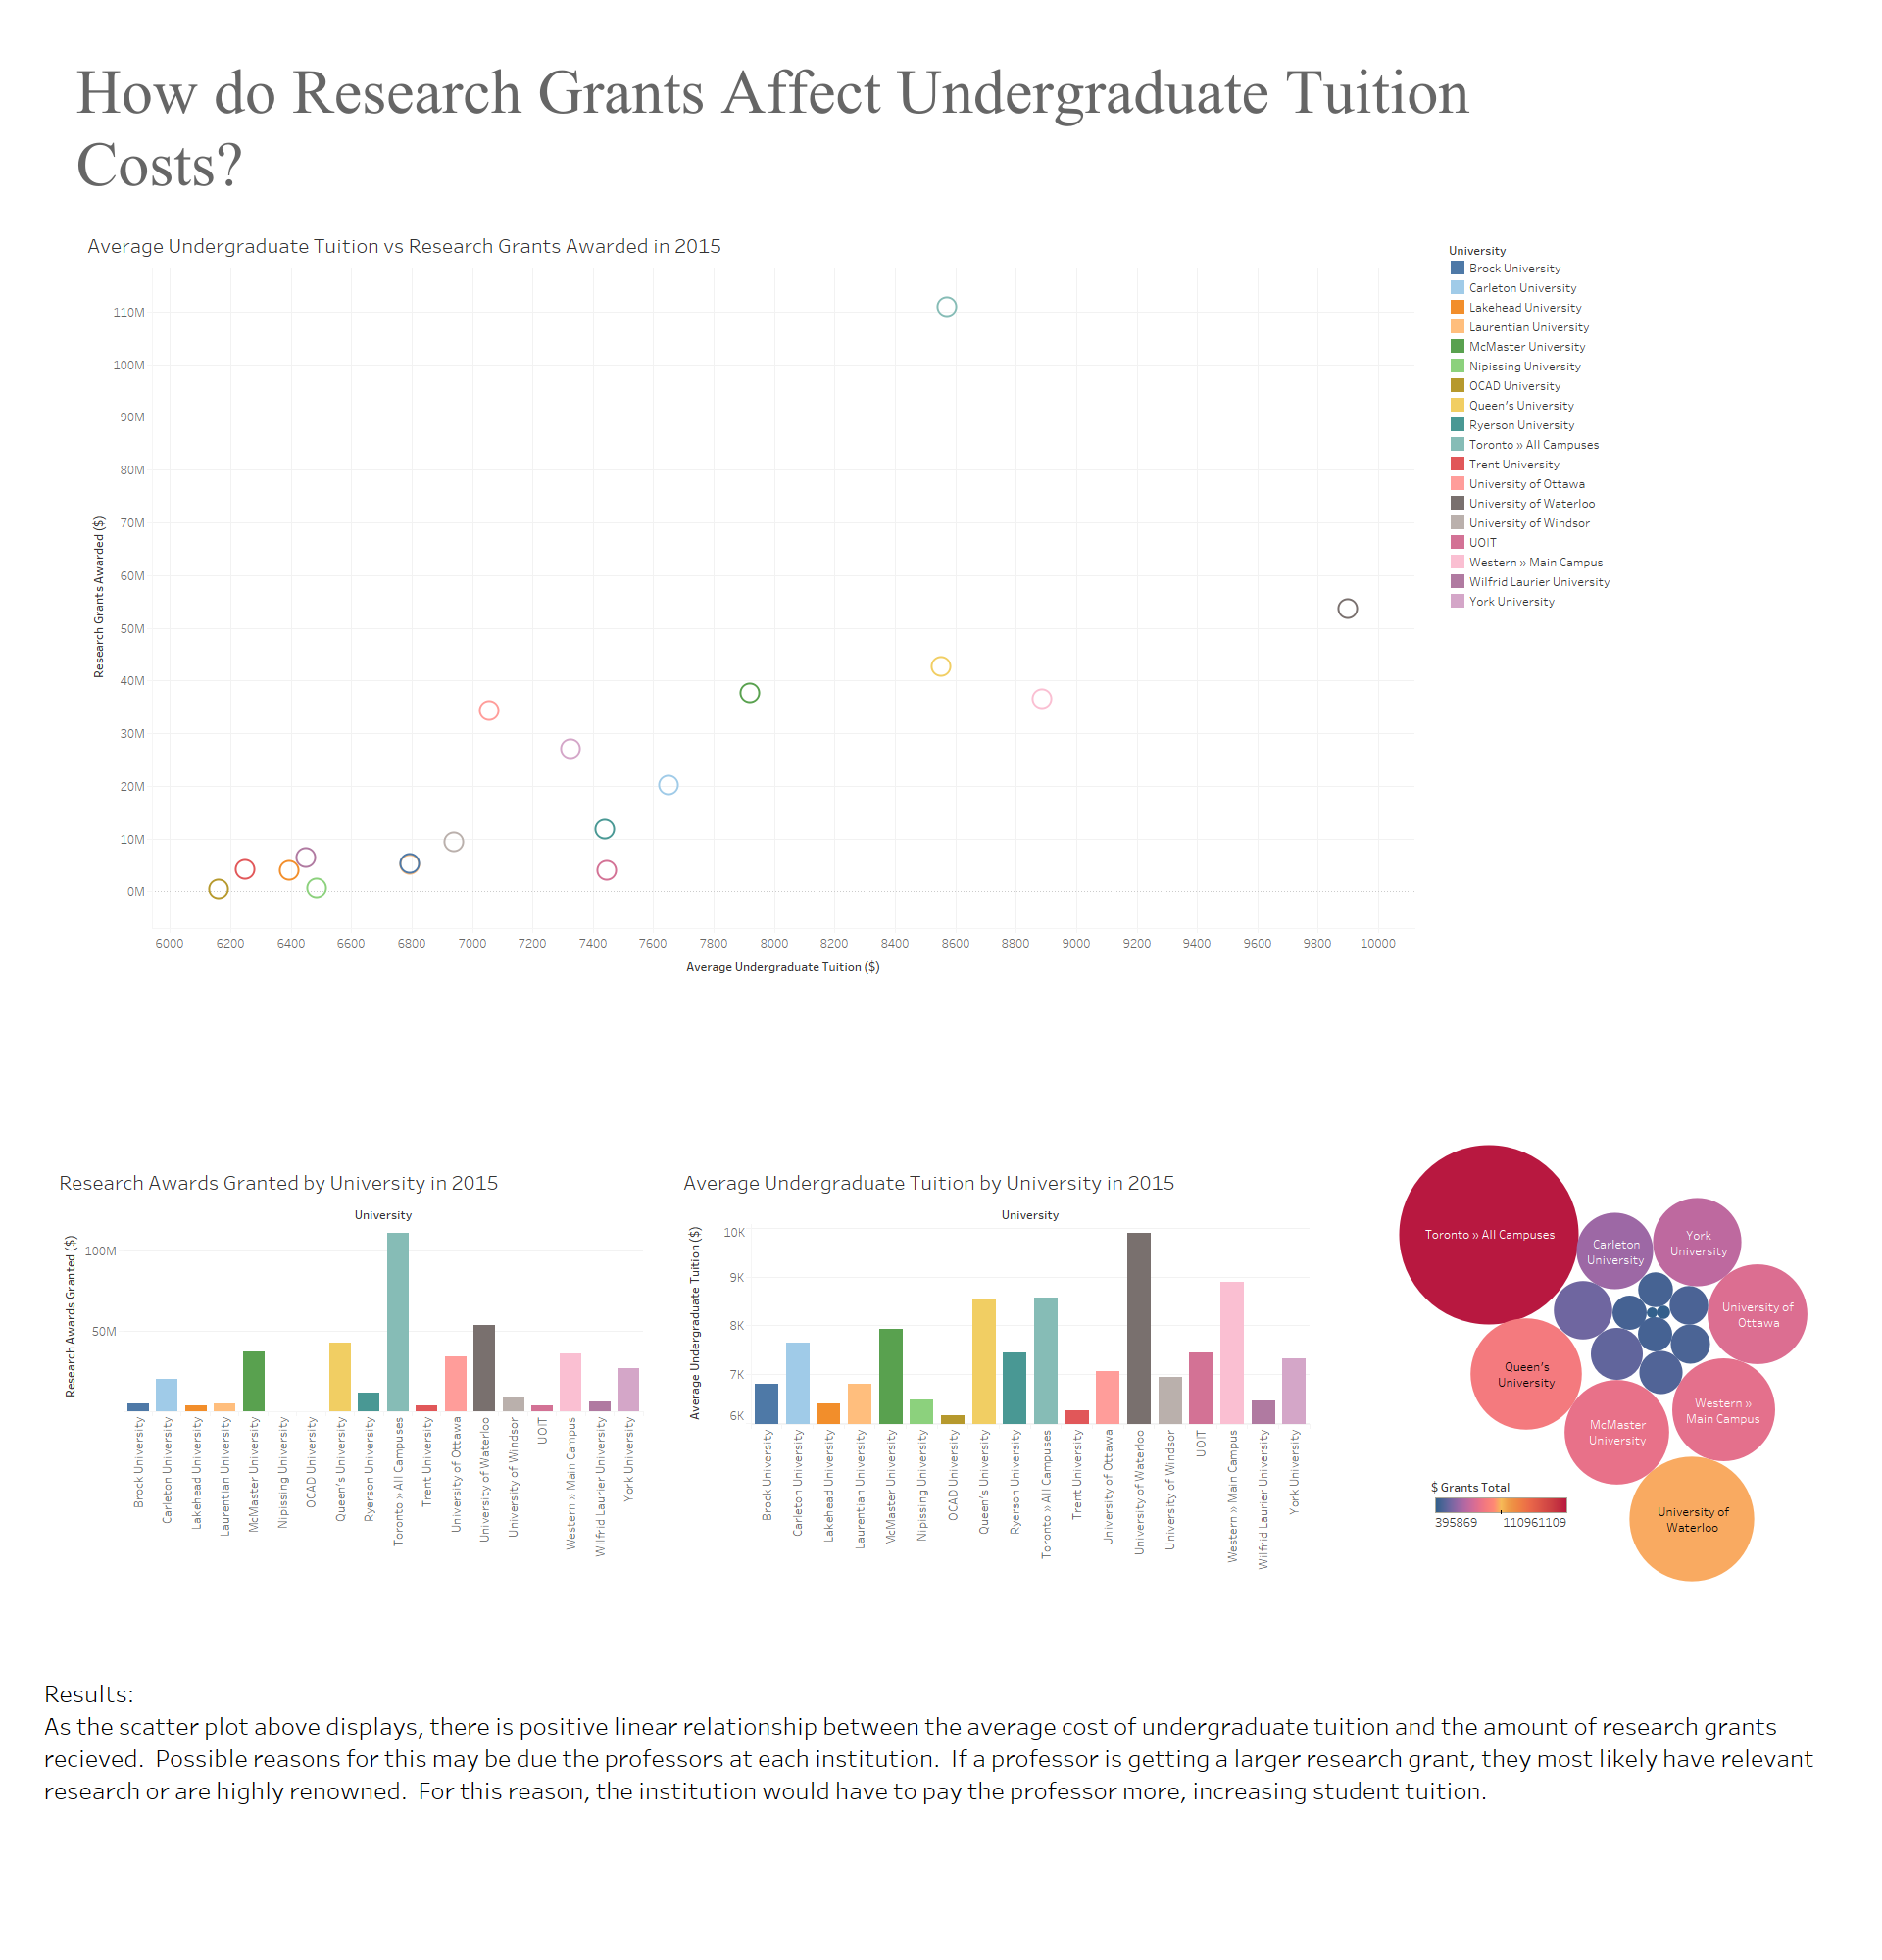

Layout of this report page (visuals, bound fields, positions):
{"tool":"tableau","page":{"name":"Dashboard 2","canvas":[1920,2000],"ordinal":1},"visuals":[{"type":"text","box":[75,17,1552,227]},{"type":"worksheet","title":"Sheet 1","mark":"Automatic","rows":["$ Grants Total"],"cols":["Average"],"box":[85,230,1358,772]},{"type":"legend","title":"Sheet 1","param":"[federated.06sdjon1jtp0h01343xwn1rz3oj9].[none:University:nk]","box":[1477,245,324,587]},{"type":"worksheet","title":"Sheet 5","mark":"Circle","box":[1412,1167,447,458]},{"type":"worksheet","title":"Sheet 3","mark":"Bar","rows":["$ Grants Total"],"cols":["University"],"box":[56,1186,600,414]},{"type":"worksheet","title":"Sheet 4","mark":"Bar","rows":["Average"],"cols":["University"],"box":[693,1186,643,427]},{"type":"legend","title":"Sheet 5","param":"[federated.06sdjon1jtp0h01343xwn1rz3oj9].[none:$ Grants Total:qk]","box":[1460,1505,143,88]},{"type":"text","box":[42,1606,1850,345]}]}

Visuals, with their boxes in screenshot pixels (x1, y1, x2, y2), scaled from the page's 1920x2000 canvas onto the 1882x1960 screenshot:
text: bbox=[74, 17, 1595, 239]
"Sheet 1" worksheet: bbox=[83, 225, 1414, 982]
"Sheet 1" legend: bbox=[1448, 240, 1765, 815]
"Sheet 5" worksheet (Circle marks): bbox=[1384, 1144, 1822, 1592]
"Sheet 3" worksheet (Bar marks): bbox=[55, 1162, 643, 1568]
"Sheet 4" worksheet (Bar marks): bbox=[679, 1162, 1310, 1581]
"Sheet 5" legend: bbox=[1431, 1475, 1571, 1561]
text: bbox=[41, 1574, 1855, 1912]
